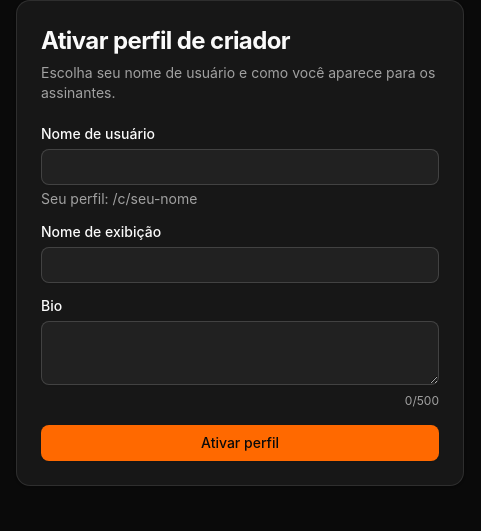
Scenario: ActivateCreatorPage › shows HANDLE_TAKEN on the handle field
Type "davi" into the field labelled "Nome de usuário" at coordinates (240, 167), box [41, 149, 439, 185]
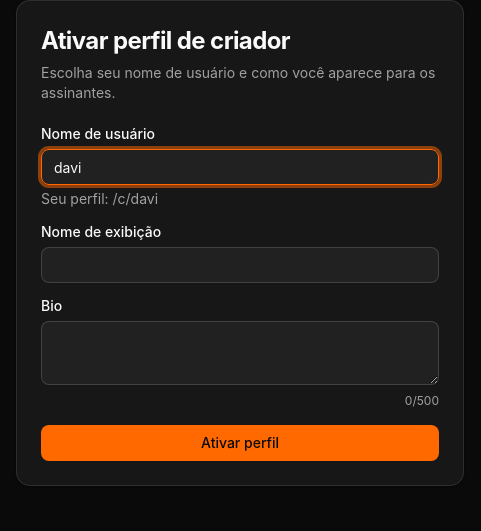
Type "Davi Lima" into the field labelled "Nome de exibição" at coordinates (240, 265), box [41, 247, 439, 283]
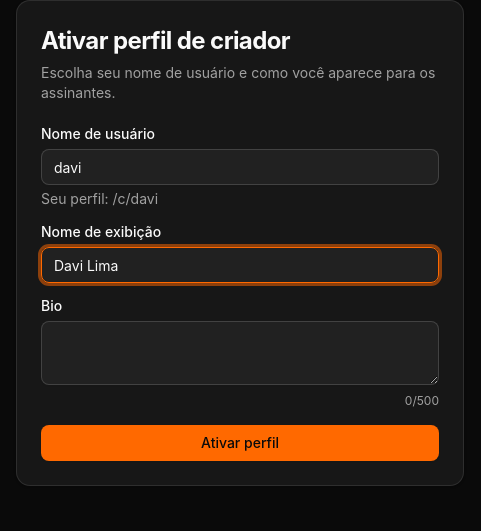
Click the button "Ativar perfil" at coordinates (240, 443), box [41, 425, 439, 461]
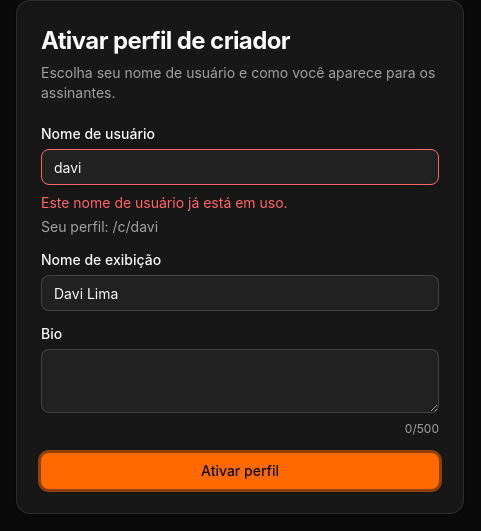
Expected: the text "Este nome de usuário já está em uso." is shown, [41, 194, 288, 211]
